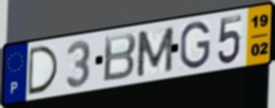3: (64, 38, 93, 91)
5: (215, 13, 244, 65)
B: (101, 31, 138, 85)
D: (27, 44, 61, 97)
G: (179, 19, 212, 71)
M: (135, 24, 176, 79)
